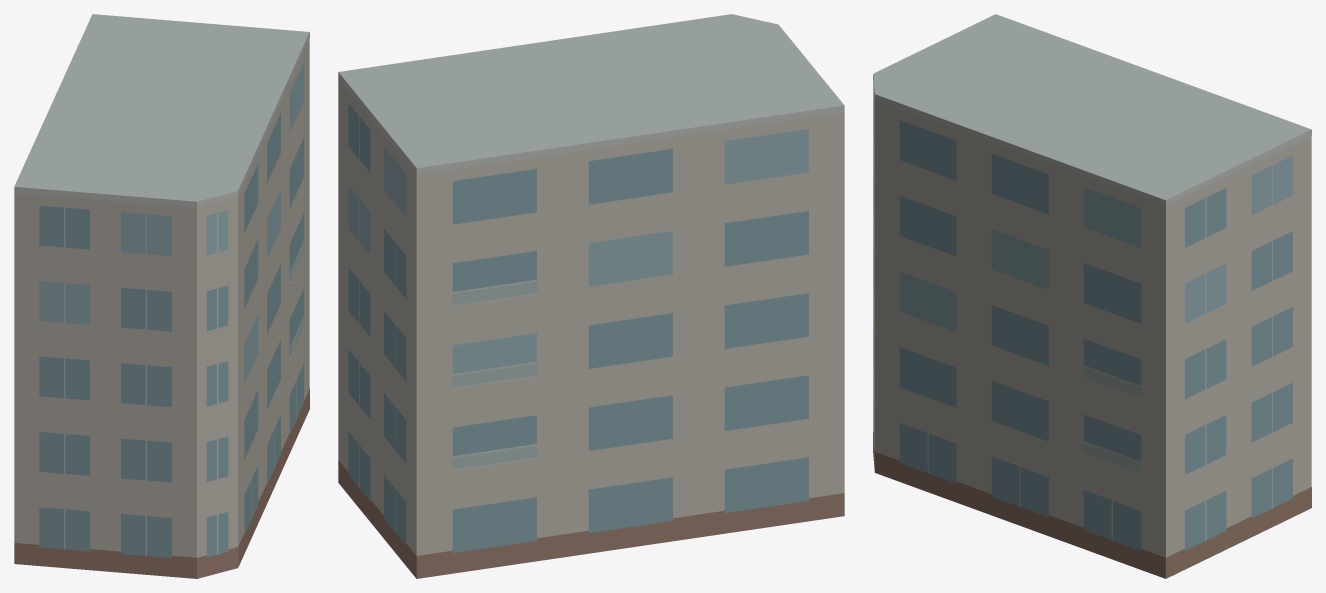
Rendered from survey-upis-33039309.glb.
3 views of the same model, side by side, from view 1: azimuth 30°, elevation 25°; view 2: azimuth 150°, elevation 25°; view 3: azimuth 270°, elevation 25° (orthographic). The views are drawn at different scales.
Visible parts, largest first — view 1: survey-upis-33039309.tmp; view 2: survey-upis-33039309.tmp; view 3: survey-upis-33039309.tmp.
Part boxes in pixels (x1,y1,x2,y2): survey-upis-33039309.tmp: (14,14,309,578); survey-upis-33039309.tmp: (338,14,844,578); survey-upis-33039309.tmp: (873,14,1311,578).
Size of the model in its own units: 15.89 by 15.05 by 15.81.
